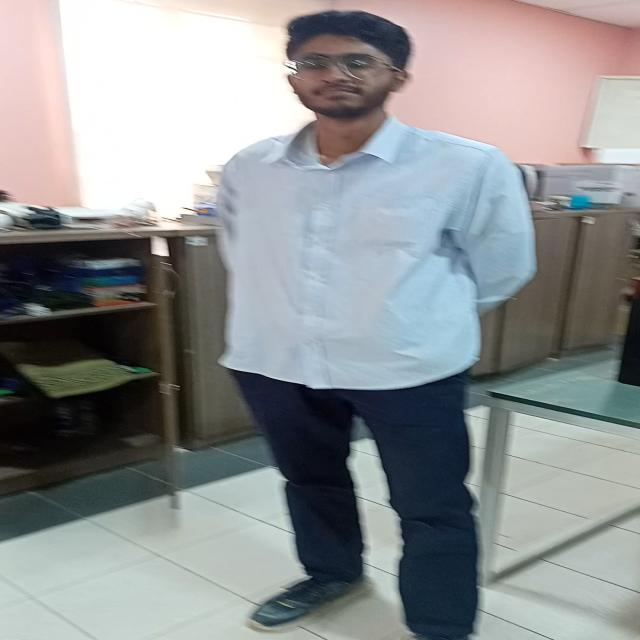dress: (205, 111, 542, 640)
glasses: (282, 50, 391, 82)
